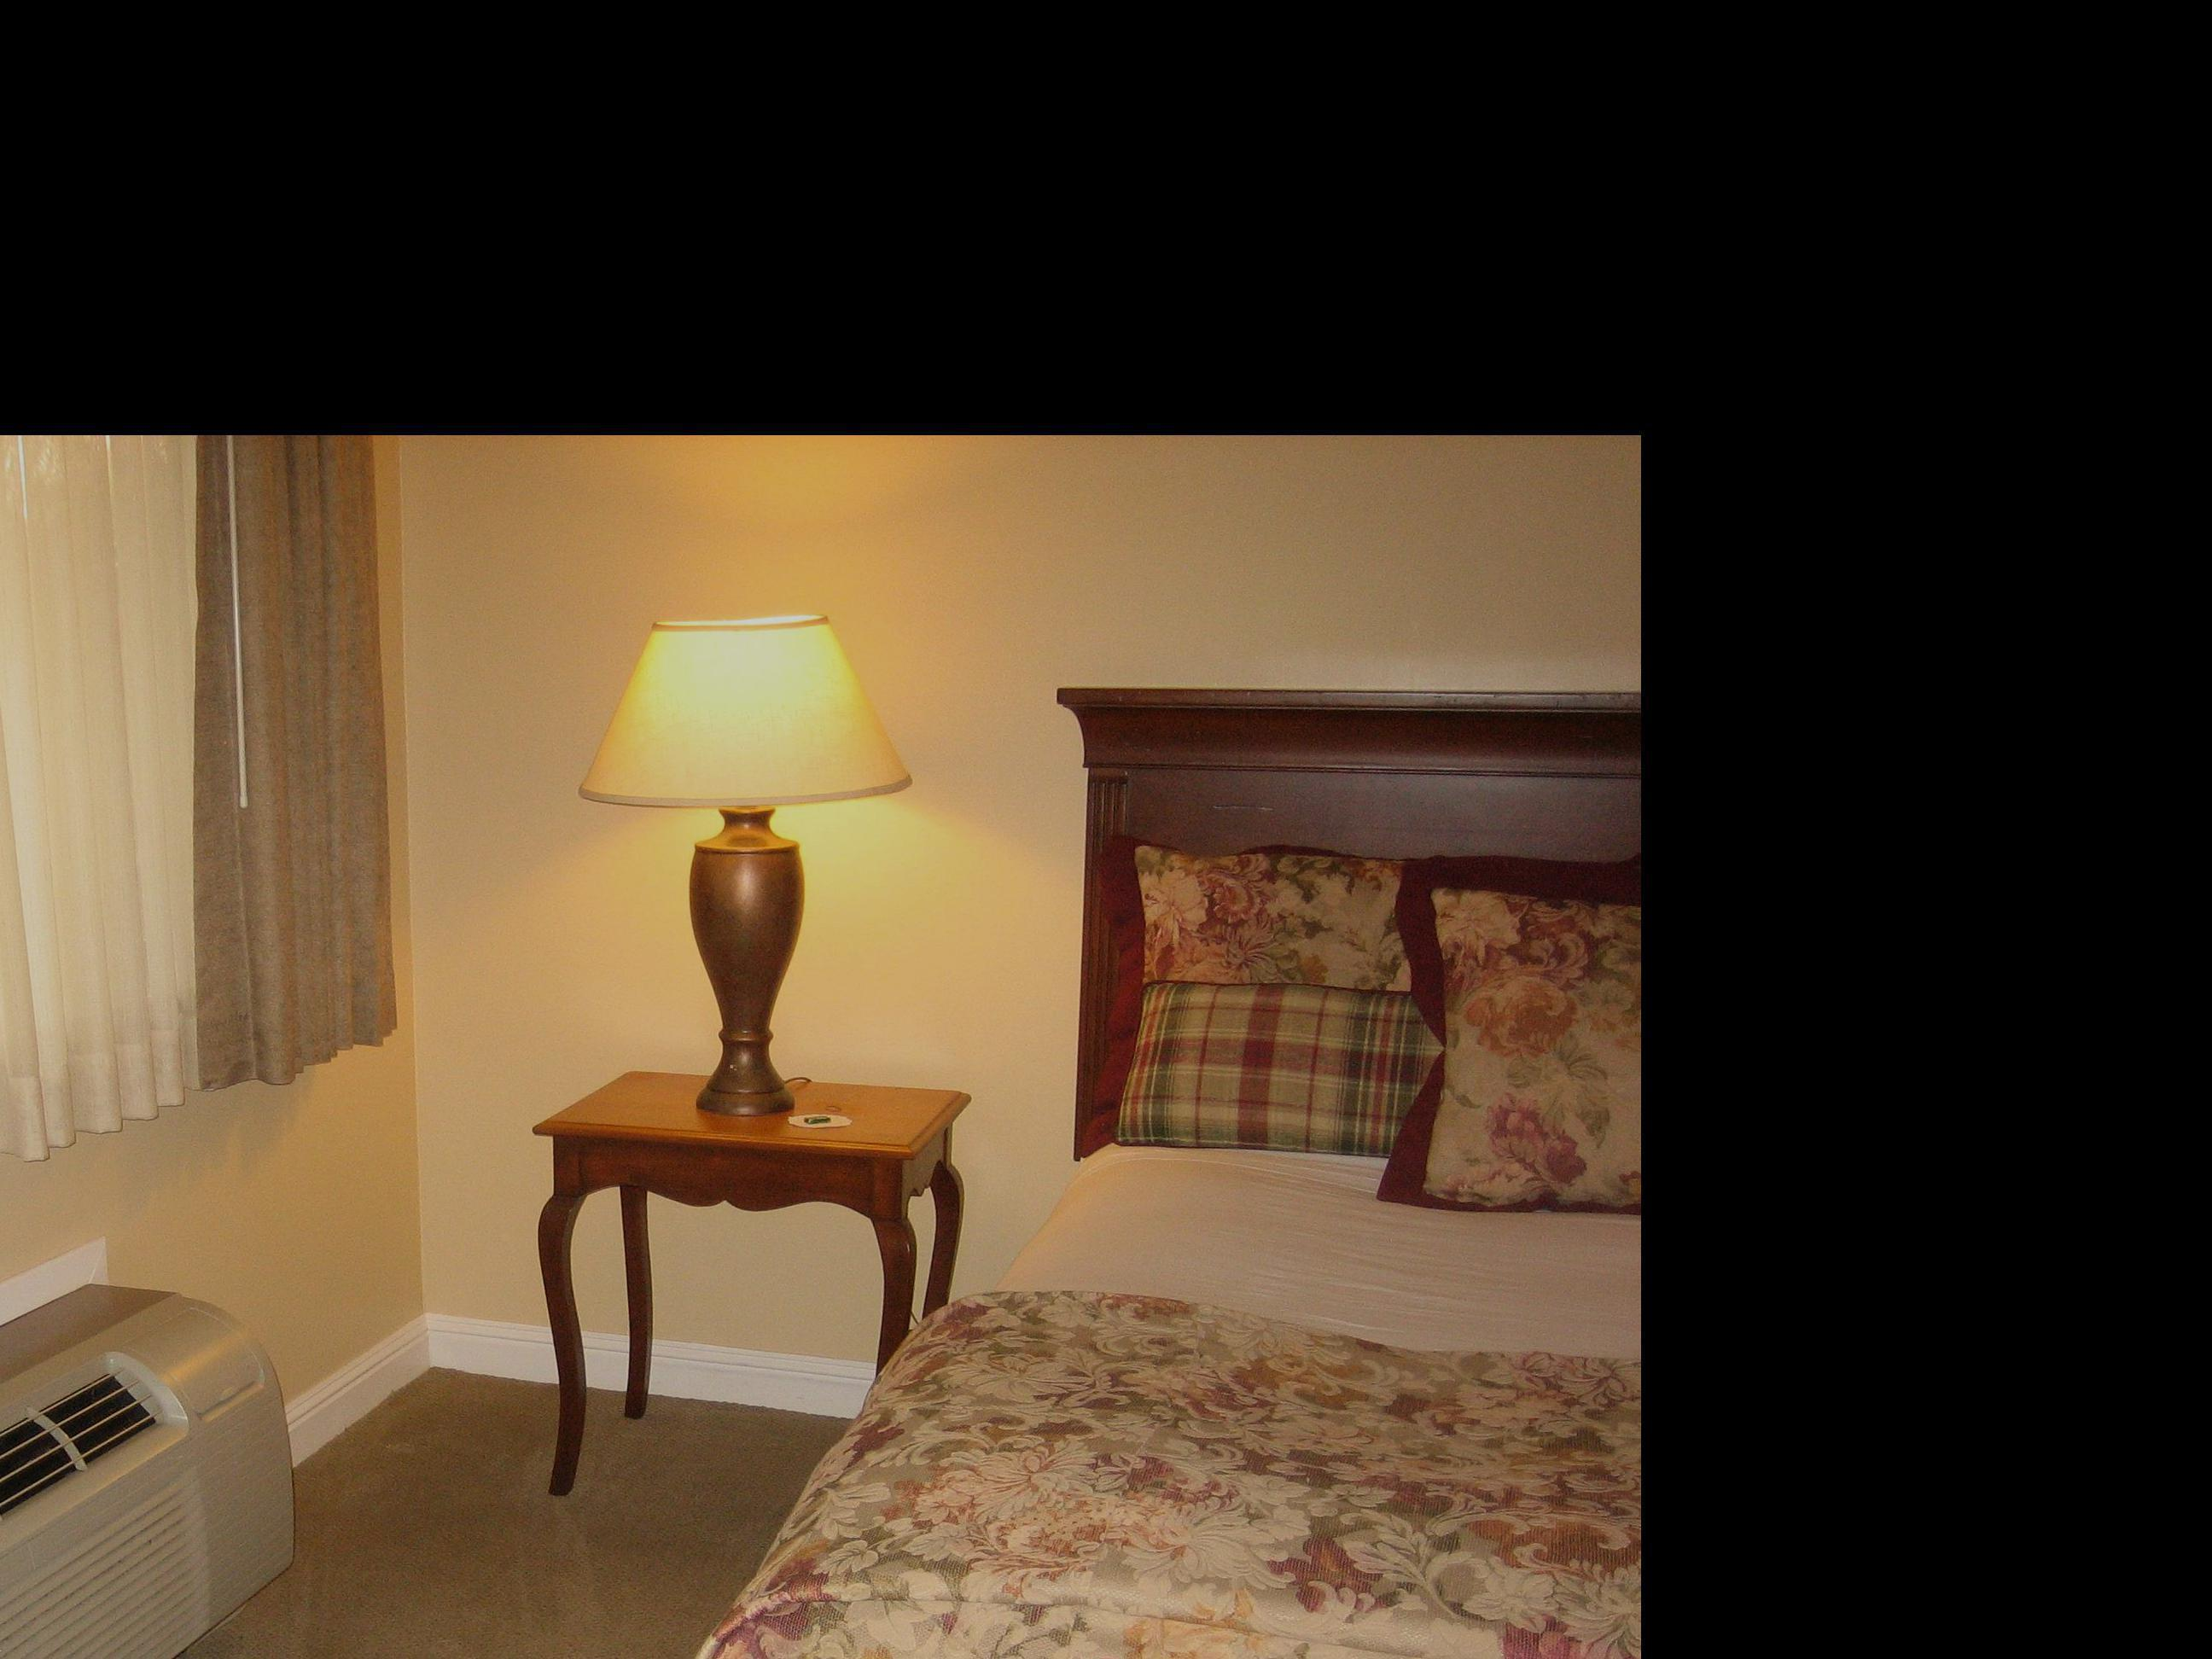Otro Obstaculo: (0, 1236, 329, 1659)
